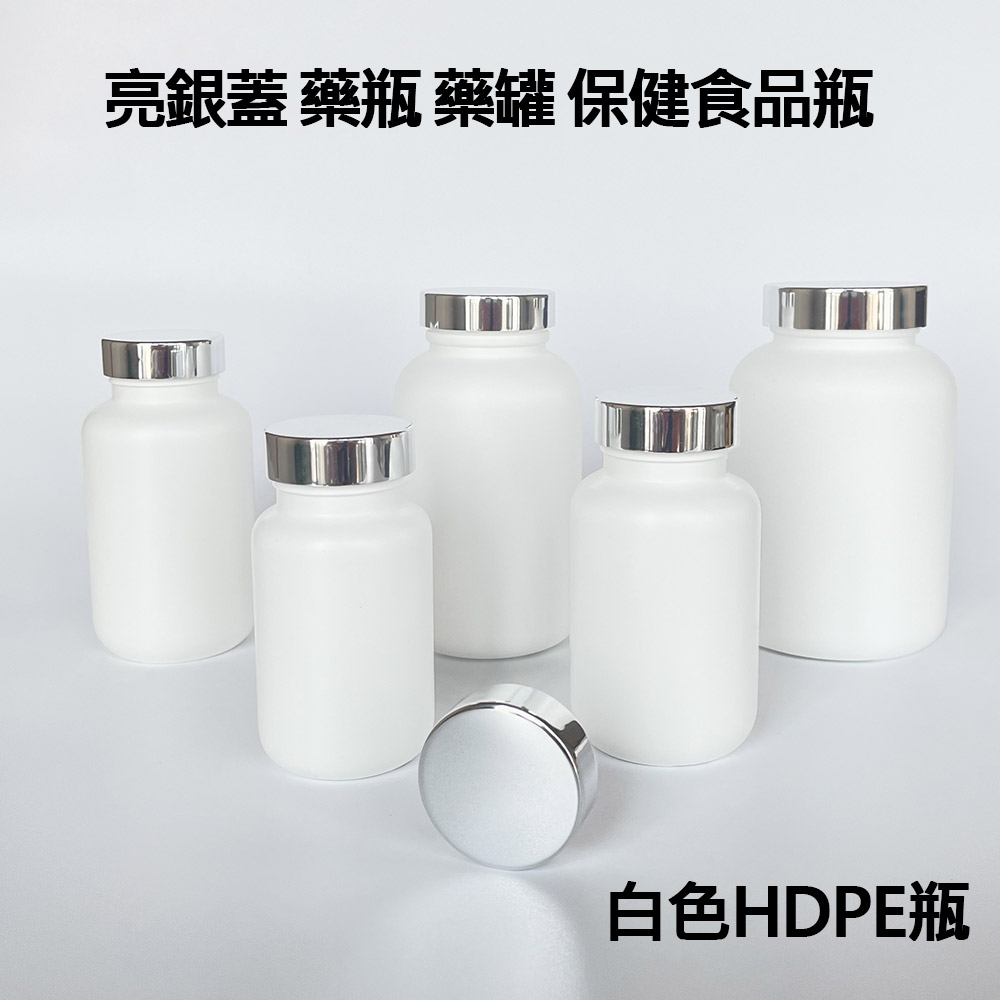medicinejar: (747, 275, 977, 667), (399, 275, 597, 682), (582, 393, 774, 778), (254, 418, 452, 782), (84, 313, 259, 673)
